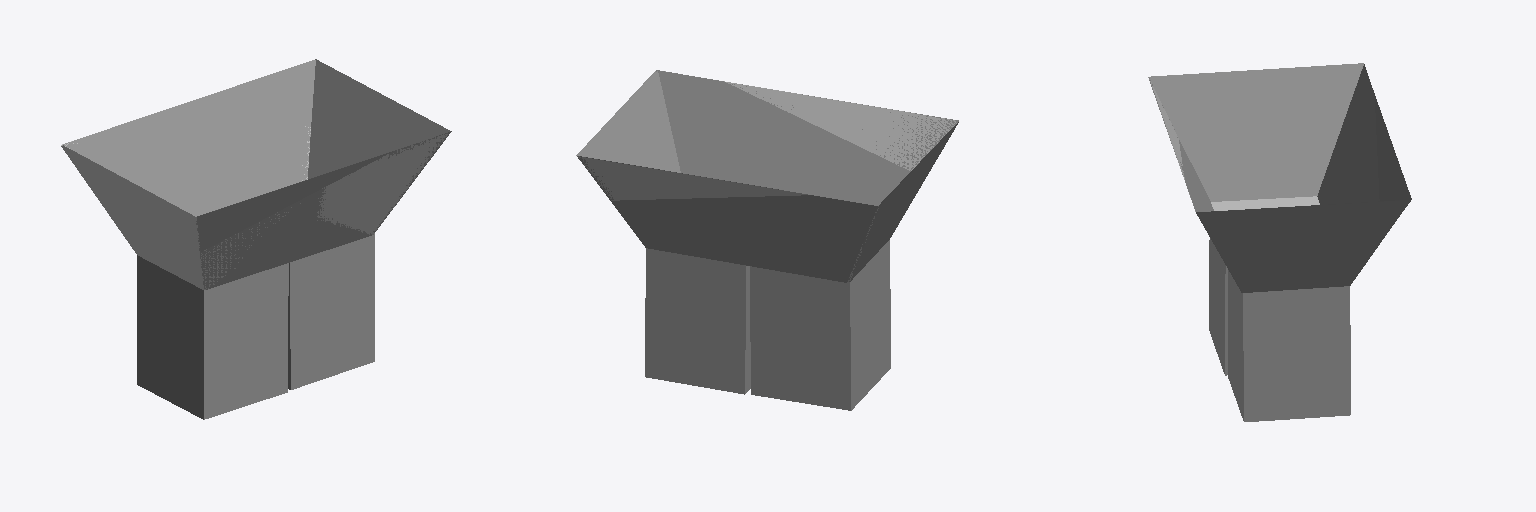
File: viscliff3.obj
3 views of the same model, side by side, from view 1: azimuth 30°, elevation 25°; view 2: azimuth 150°, elevation 25°; view 3: azimuth 270°, elevation 25° (orthographic).
Visible parts, largest first — view 1: virArena, virArena2, Arena; view 2: virArena2, virArena, Arena; view 3: virArena2, virArena, Arena.
Boxes of the visible parts, x1,y1,x2,y2 form: virArena: [61, 59, 449, 419]; virArena2: [63, 59, 451, 389]; Arena: [61, 126, 447, 289]; virArena2: [576, 70, 958, 394]; virArena: [577, 70, 958, 410]; Arena: [577, 71, 956, 281]; virArena2: [1148, 64, 1410, 421]; virArena: [1149, 63, 1411, 375]; Arena: [1150, 81, 1319, 211].
Size of the model in its own units: 1.65 by 1.21 by 1.22.